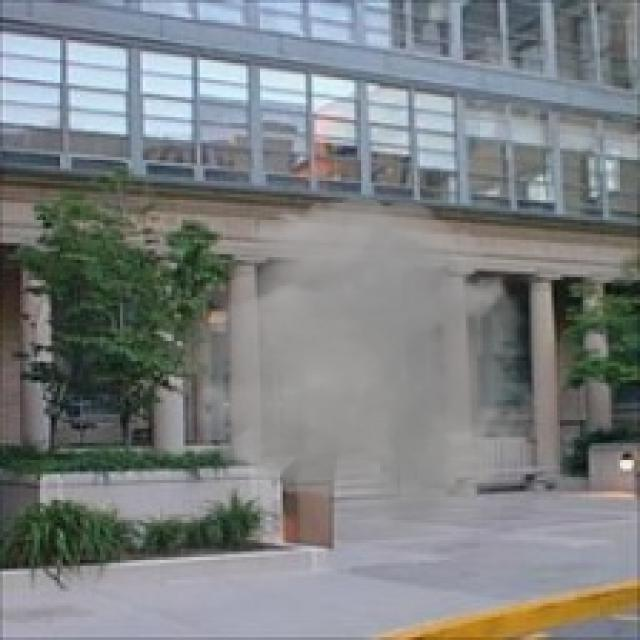Smoke: (145, 188, 558, 568)
